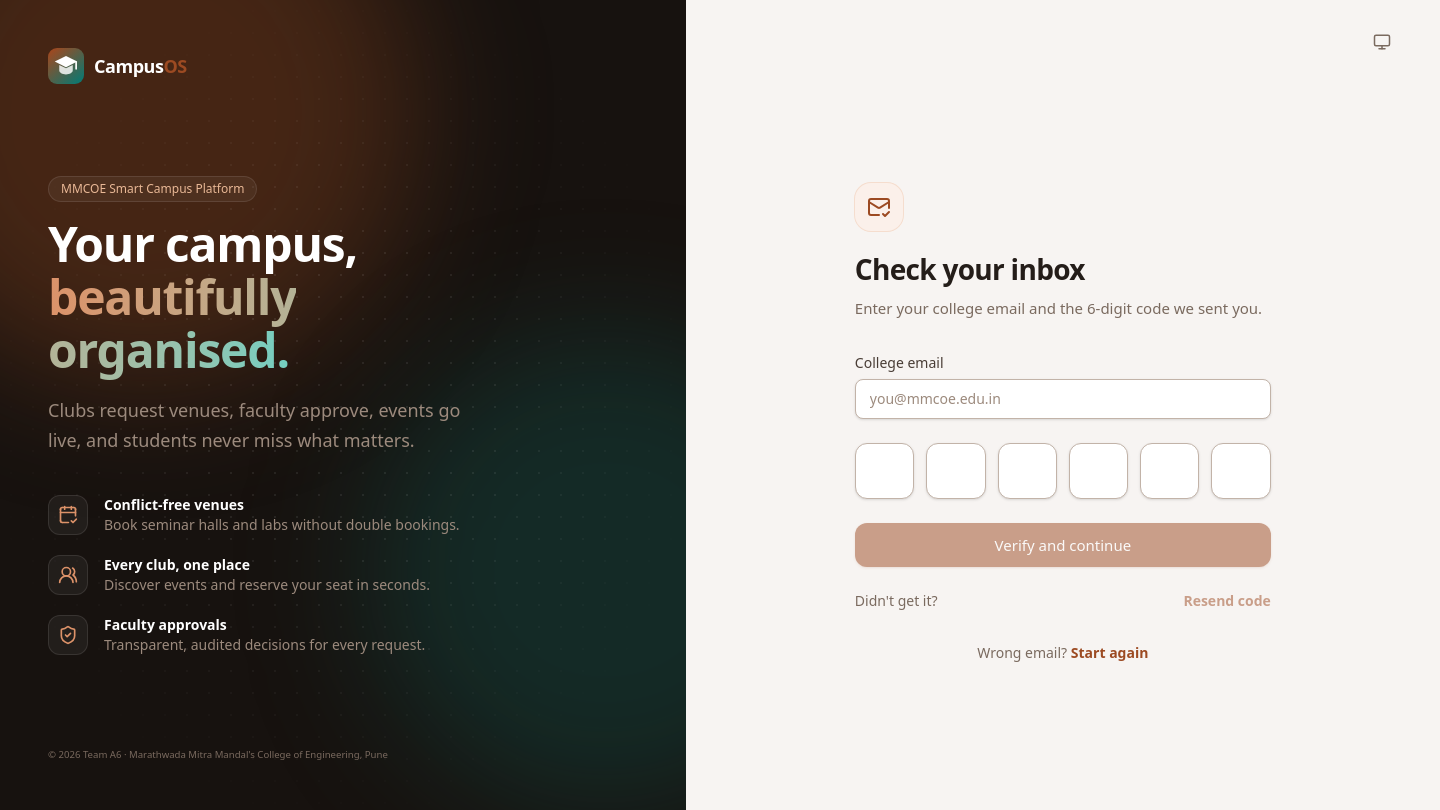
registration and verification › lets a visitor with no email in context type it, then resend
The image size is (1440, 810).
Type "late@mmcoe.edu.in" into the field labelled "College email" at (1063, 399), box [855, 379, 1271, 419]
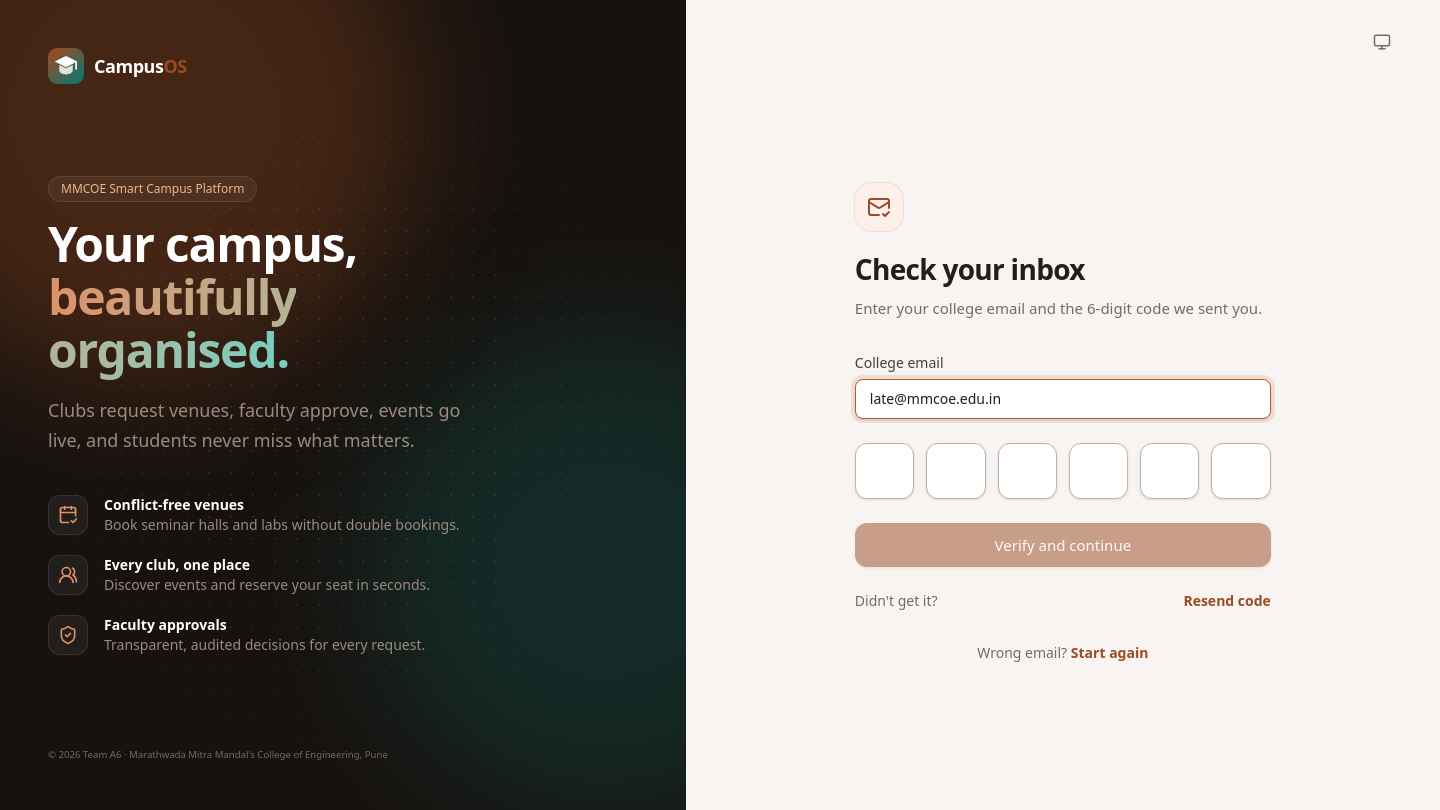
Click the button "Resend code" at (1227, 601), box [1183, 591, 1271, 611]
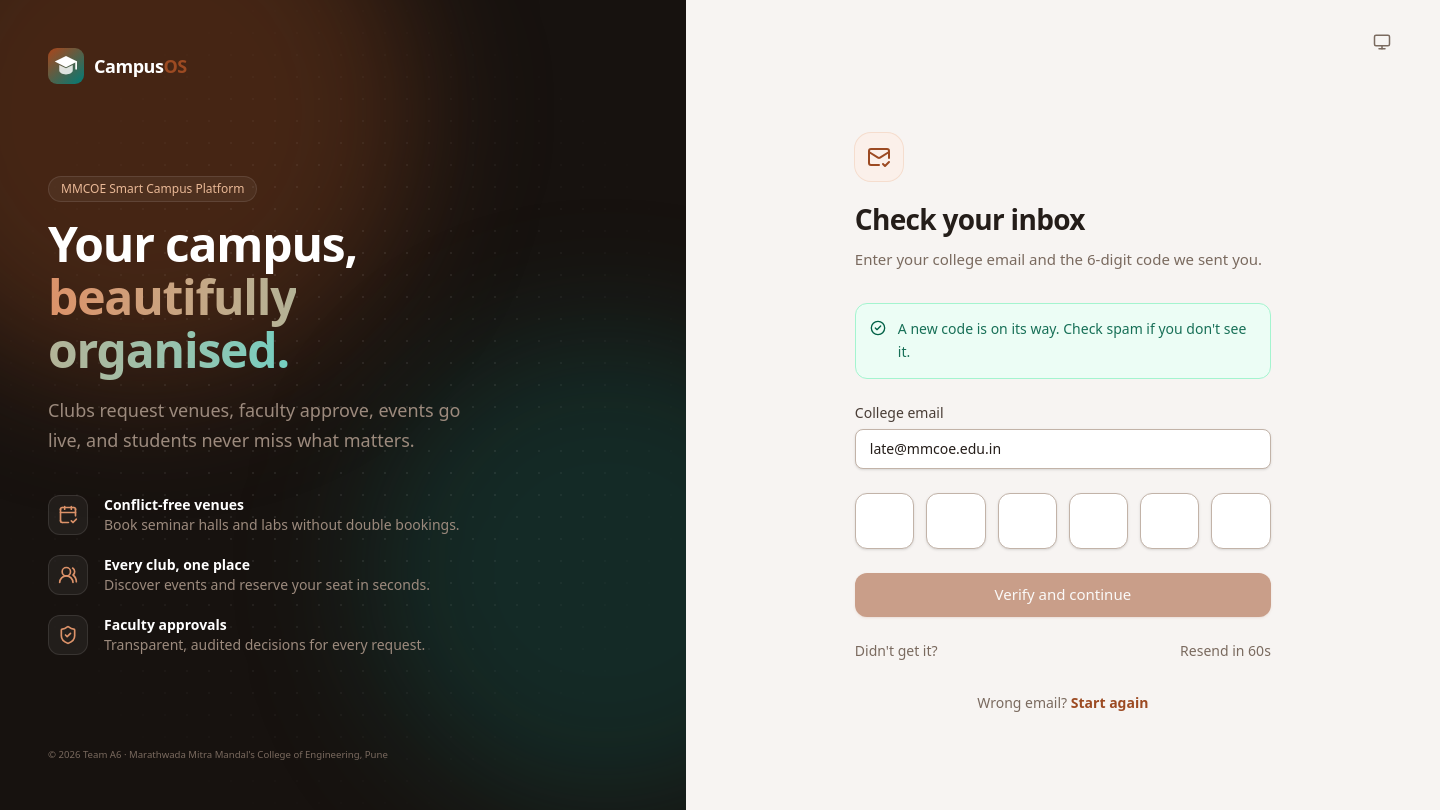
Expected: the text "A new code is on its way. Check spam if you don't see it." is shown, [898, 318, 1256, 364]
Expected: the text "Resend in 60s" is shown, [1180, 641, 1271, 661]
